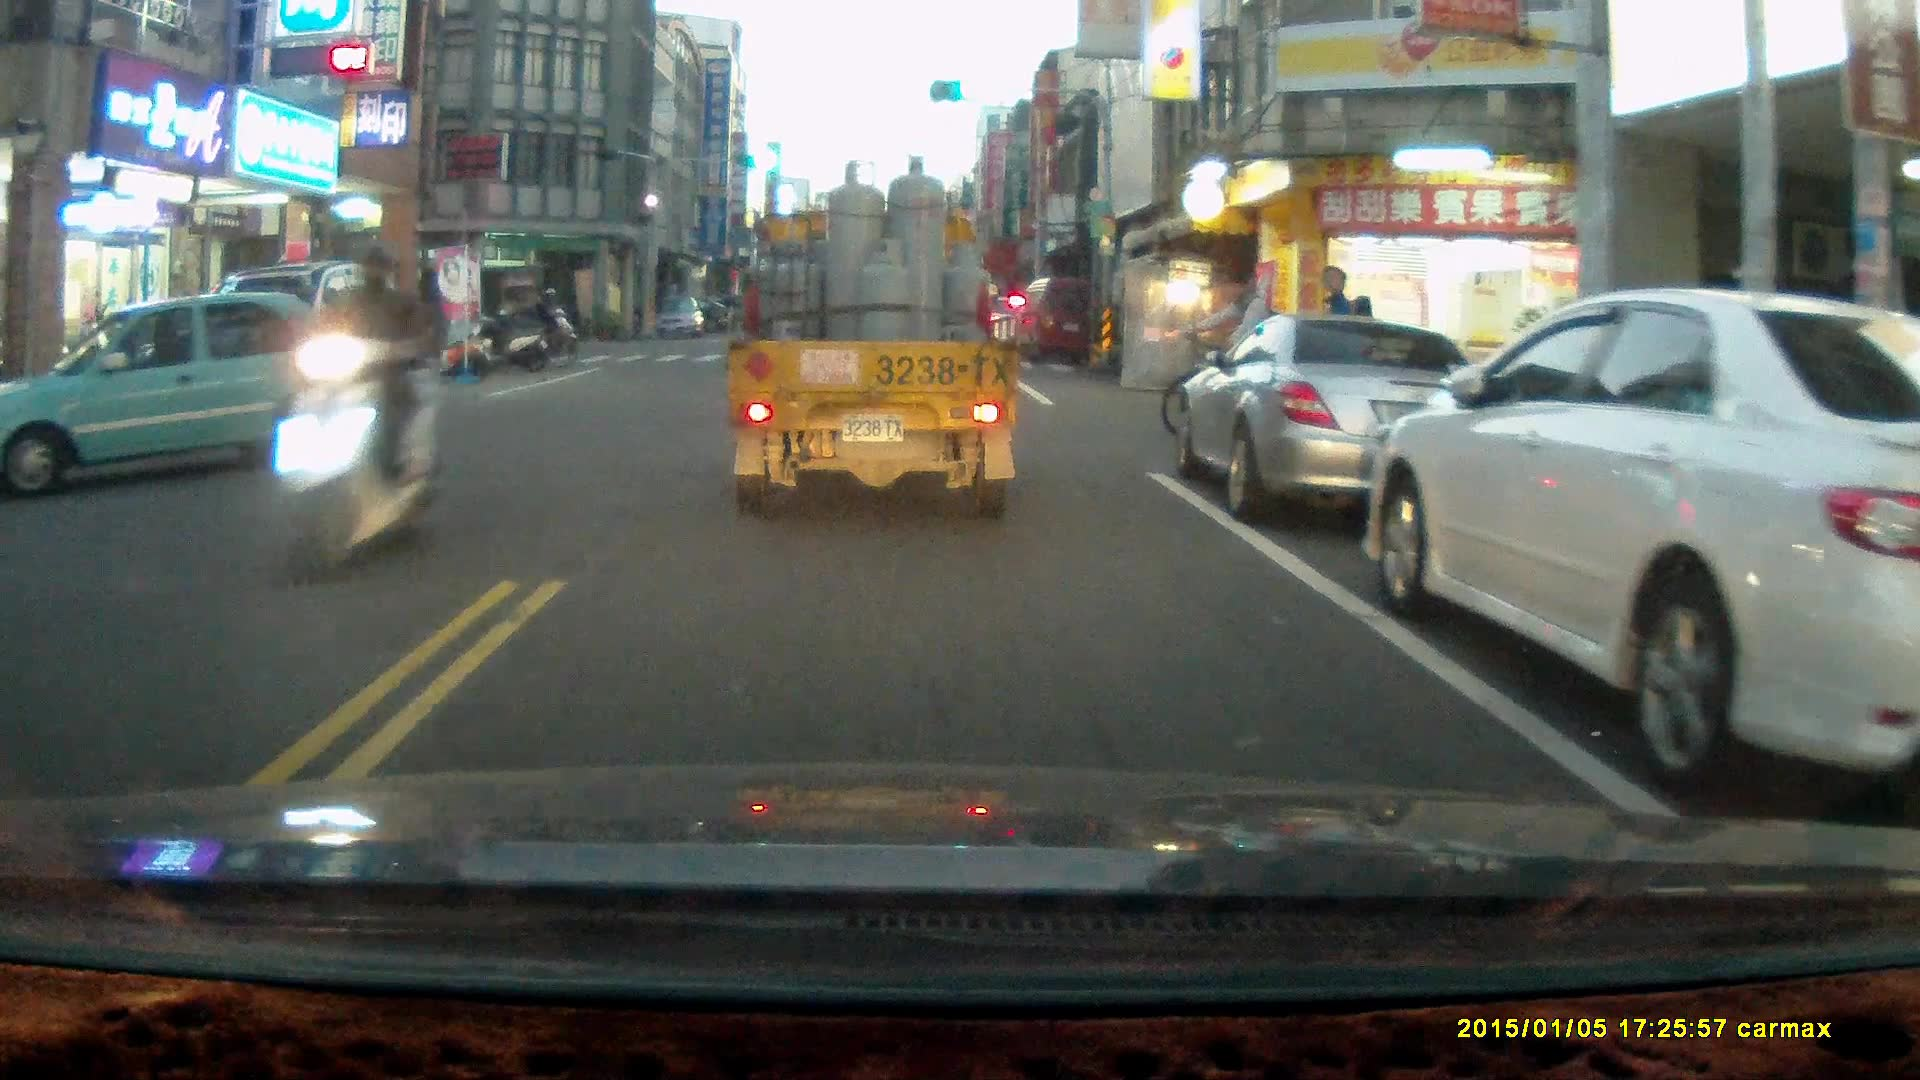rider: (267, 237, 442, 590), (1162, 271, 1322, 449), (519, 285, 582, 357)
vehicle: (1373, 283, 1920, 788), (729, 156, 1019, 519), (1, 289, 343, 494), (1173, 314, 1509, 519), (1018, 271, 1120, 363), (654, 296, 708, 341)
